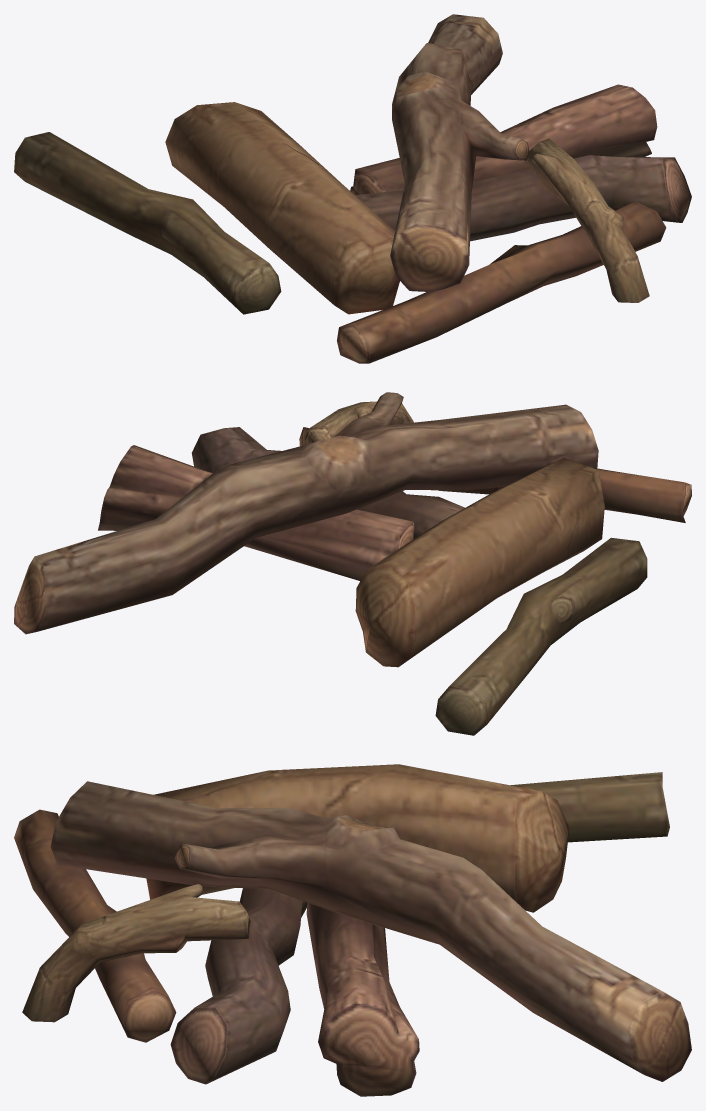
The model's file is S_Tree_Yellow040.FBX.
3 renders of one model, top to bottom at view 1: azimuth 30°, elevation 25°; view 2: azimuth 150°, elevation 25°; view 3: azimuth 270°, elevation 25°, orthographic. The views are drawn at different scales.
Visible parts, largest first — view 1: S_Tree_Yellow040; view 2: S_Tree_Yellow040; view 3: S_Tree_Yellow040.
Part boxes in pixels (x1,y1,x2,y2): S_Tree_Yellow040: (14, 14, 691, 363); S_Tree_Yellow040: (14, 392, 691, 735); S_Tree_Yellow040: (14, 764, 691, 1096).
Size of the model in its own units: 1136 by 288 by 1156.
